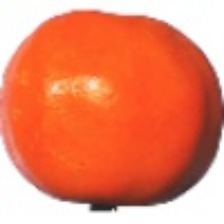tangerine: (29, 60, 189, 197)
